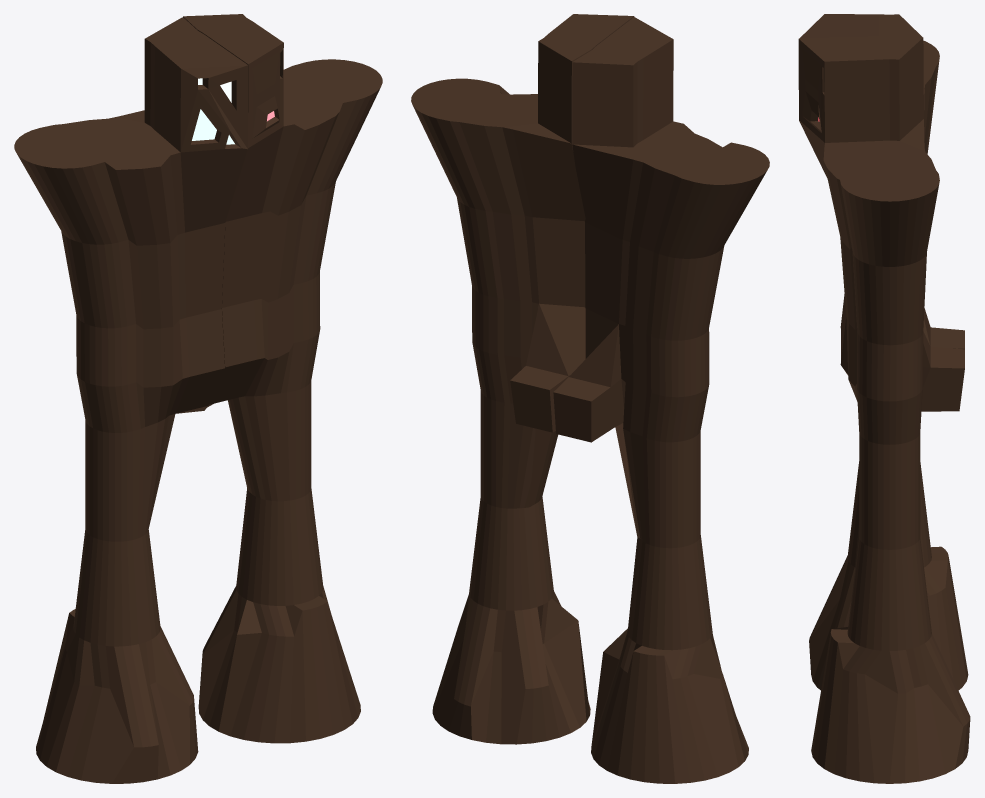
File: Tree.fbx
3 renders of one model, left to right at view 1: azimuth 30°, elevation 25°; view 2: azimuth 150°, elevation 25°; view 3: azimuth 270°, elevation 25°, orthographic. The views are drawn at different scales.
Visible parts, largest first — view 1: Eys, Cone.010; view 2: Eys, Cone.010; view 3: Cone.010, Eys.
Part boxes in pixels (x1=…): Eys: x1=14, y1=17, x2=247, y2=783; Cone.010: x1=183, y1=14, x2=382, y2=743; Eys: x1=553, y1=17, x2=769, y2=783; Cone.010: x1=411, y1=14, x2=634, y2=744; Cone.010: x1=798, y1=36, x2=970, y2=783; Eys: x1=798, y1=14, x2=968, y2=690.
Size of the model in its own units: 938 by 1768 by 407.
